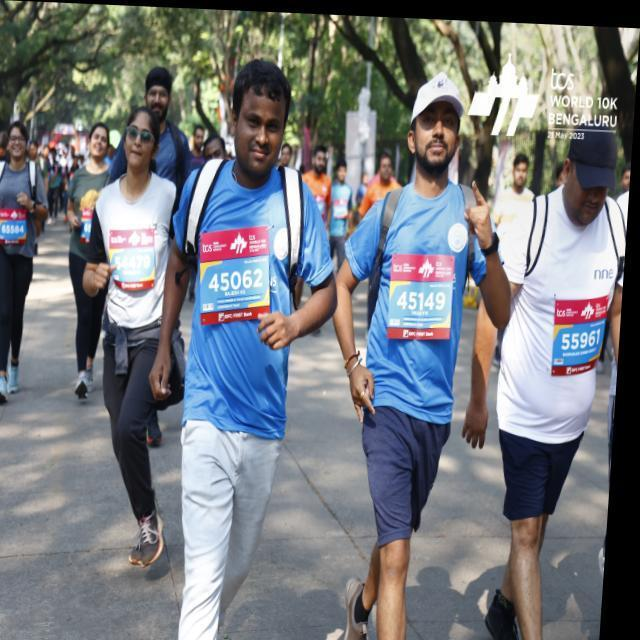dorsal: (194, 228, 280, 325), (391, 248, 462, 342), (555, 290, 612, 368), (110, 228, 162, 290), (1, 207, 32, 244)
